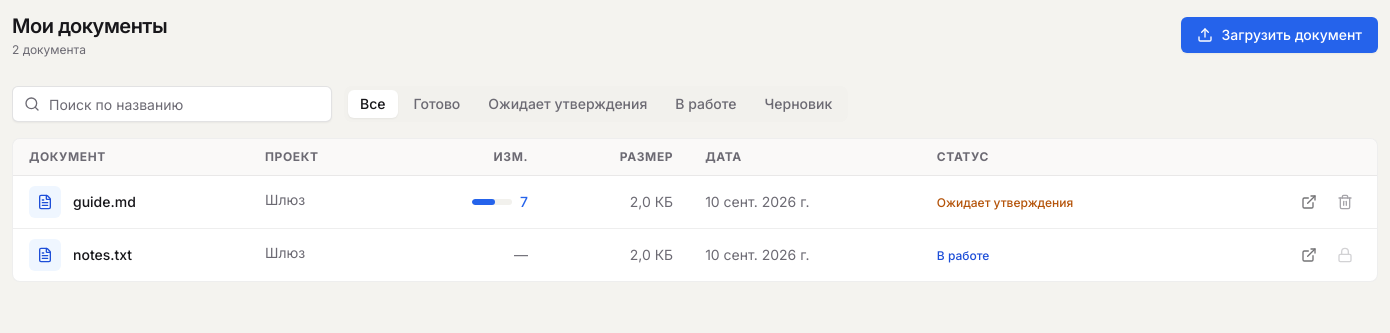
it: Раздел «Мои документы» › фильтр по статусу пишется в URL и даёт пустую категорию
Check: the link "guide.md" is shown, box x1=73 y1=192 x2=136 y2=212
Click the radio button labelled "Готово" at (437, 104), box x1=402 y1=90 x2=472 y2=118
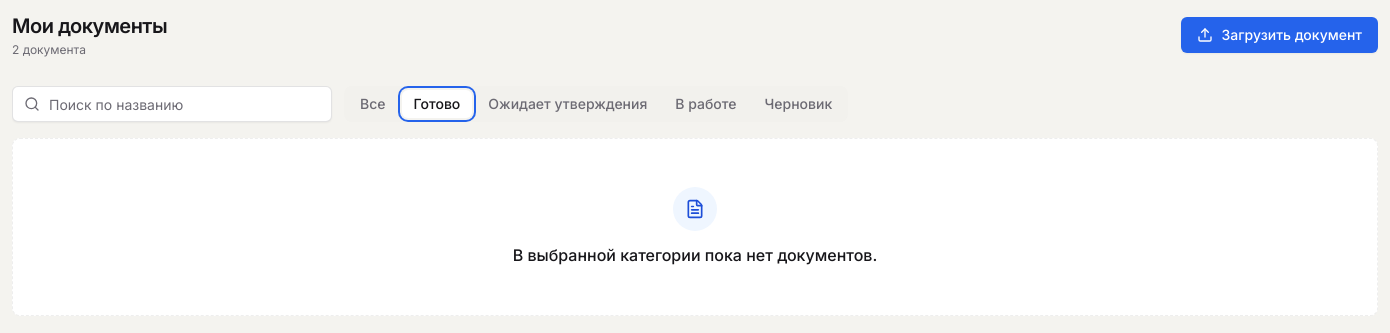
Check: the text "В выбранной категории пока нет документов." is shown, box x1=513 y1=243 x2=877 y2=267
